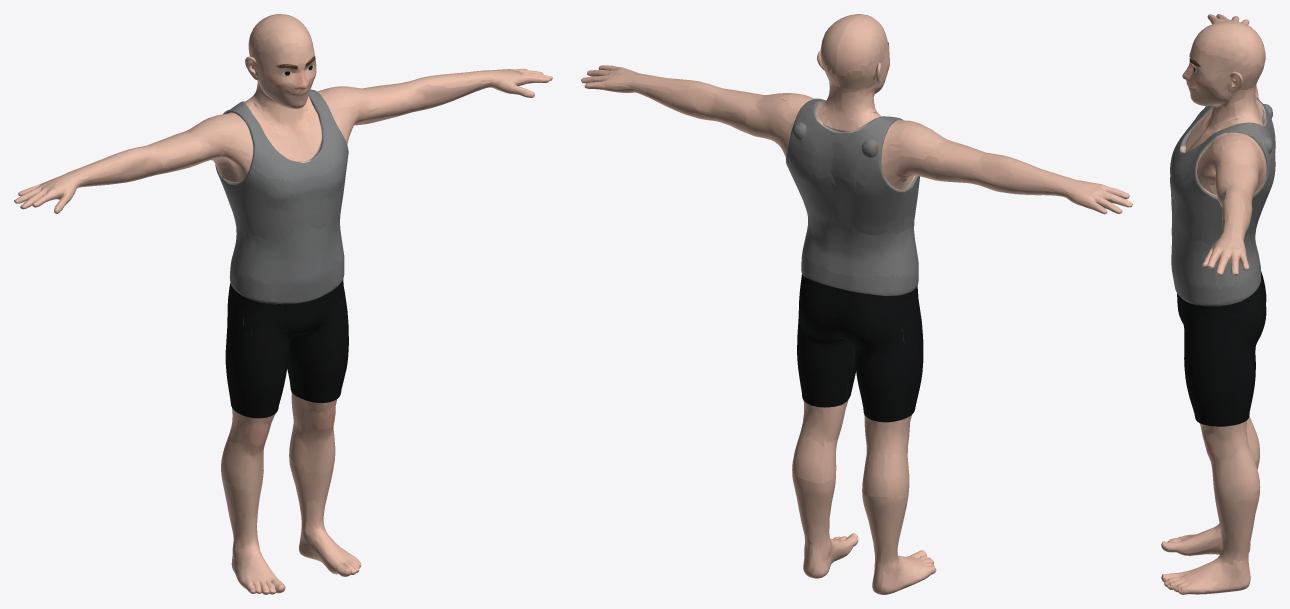
File: base_male_v2.glb
3 views of the same model, side by side, from view 1: azimuth 30°, elevation 25°; view 2: azimuth 150°, elevation 25°; view 3: azimuth 270°, elevation 25° (orthographic). The views are drawn at different scales.
Size of the model in its own units: 1.9 by 1.88 by 0.3546.
1 material, 1 textured.
